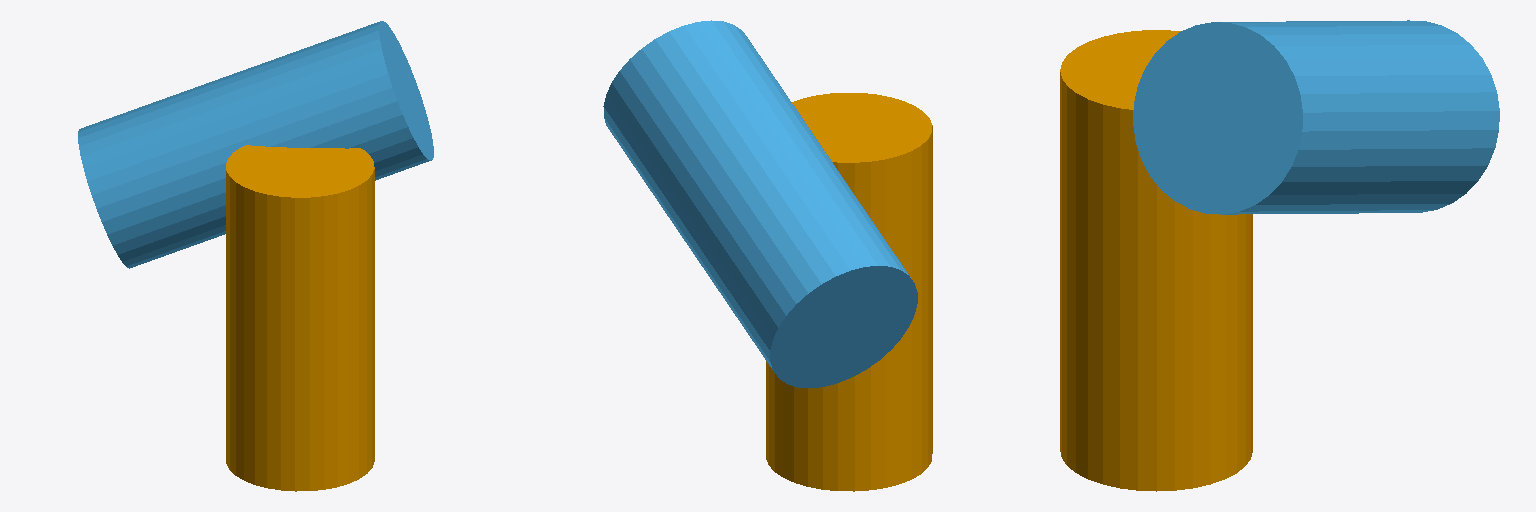
The robot description file, URDF, robot "pepe":
<?xml version="1.0"?><robot name="pepe">
	<link name="0">
		<visual>
			<geometry>
				<cylinder length="1.3303240535078822" radius="0.3058566576238244"/>
			</geometry>
		</visual>
		<collision>
			<geometry>
				<cylinder length="1.3303240535078822" radius="0.3058566576238244"/>
			</geometry>
		</collision>
		<inertial>
			<mass value="0.3909697826612453"/>
			<inertia ixx="0.03" iyy="0.03" izz="0.03" ixy="0" ixz="0" iyx="0"/>
		</inertial>
	</link>
	<link name="11">
		<visual>
			<geometry>
				<cylinder length="1.3303240535078822" radius="0.3058566576238244"/>
			</geometry>
		</visual>
		<collision>
			<geometry>
				<cylinder length="1.3303240535078822" radius="0.3058566576238244"/>
			</geometry>
		</collision>
		<inertial>
			<mass value="0.3909697826612453"/>
			<inertia ixx="0.03" iyy="0.03" izz="0.03" ixy="0" ixz="0" iyx="0"/>
		</inertial>
	</link>
	<joint name="11_to_0" type="revolute">
		<parent link="0"/>
		<child link="11"/>
		<axis xyz="0 0 1"/>
		<limit effort="1" upper="-3.1415" lower="3.1415" velocity="1"/>
		<origin rpy="8.536785572425709 0.9448525096597806 4.765633121334139" xyz="0.08307069296480707 0.507141818168463 0.5397585539410605"/>
	</joint>
</robot>

--- What the picture shows (computed from the rendered views, not written in the file) ---
Views: 3 orthographic renders of the robot side by side, from view 1: azimuth 30°, elevation 25°; view 2: azimuth 150°, elevation 25°; view 3: azimuth 270°, elevation 25°.
Model pepe with 2 links and 1 joints (1 revolute), rooted at 0, posed all joints at 0.
Visible links, largest first — view 1: 0, 11; view 2: 11, 0; view 3: 0, 11.
Link boxes in pixels (x1,y1,x2,y2): 0: [226, 145, 374, 491]; 11: [78, 21, 433, 268]; 11: [603, 20, 917, 388]; 0: [766, 93, 932, 491]; 0: [1060, 30, 1252, 491]; 11: [1133, 20, 1499, 214].
Bounding box of the posed robot: 1.43 × 1.39 × 1.73 m (x, y, z).
Geometry: primitives only (box / cylinder / sphere), no mesh files.
